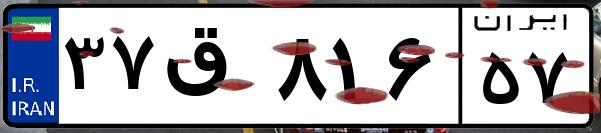1: (330, 28, 385, 110)
3: (57, 26, 110, 100)
5: (475, 38, 525, 113)
6: (385, 28, 445, 110)
7: (525, 38, 570, 115), (110, 28, 158, 98)
8: (270, 28, 330, 110)
ق: (158, 20, 270, 120)
